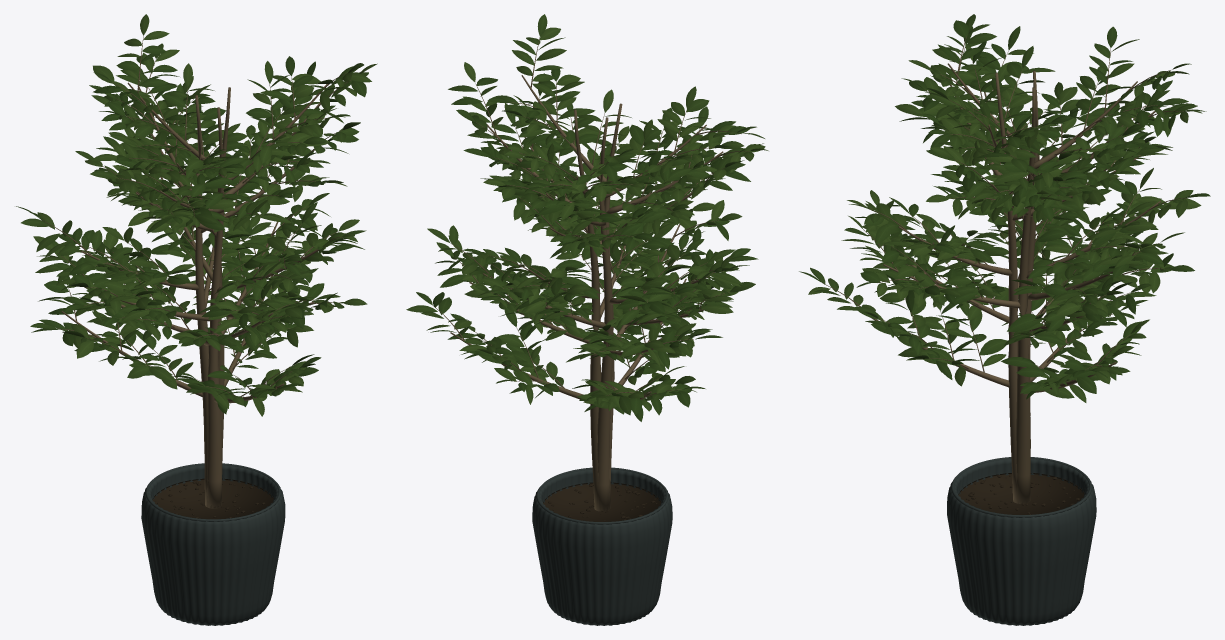
Rendered from indoor-tree.glb.
The picture shows the model from 3 angles, left to right: view 1: azimuth 30°, elevation 25°; view 2: azimuth 150°, elevation 25°; view 3: azimuth 270°, elevation 25°; orthographic projection. The views are drawn at different scales.
Visible parts, largest first — view 1: Irregular evergreen leaf canopy, Fluted dark ceramic planter, Branching woody stems Olive bark 2, Branching woody stems Olive bark 1, Branching woody stems Olive bark 0, Planter soil Dark mineral planting soil, Planter rim glaze roll; view 2: Irregular evergreen leaf canopy, Fluted dark ceramic planter, Branching woody stems Olive bark 0, Branching woody stems Olive bark 1, Planter soil Dark mineral planting soil, Branching woody stems Olive bark 2, Planter rim glaze roll; view 3: Irregular evergreen leaf canopy, Fluted dark ceramic planter, Branching woody stems Olive bark 0, Branching woody stems Olive bark 2, Planter soil Dark mineral planting soil, Branching woody stems Olive bark 1, Planter rim glaze roll.
Boxes of the visible parts, box(x1,y1,x2,y2) form: Irregular evergreen leaf canopy: box(16, 14, 377, 416); Fluted dark ceramic planter: box(141, 465, 285, 625); Branching woody stems Olive bark 2: box(57, 76, 340, 508); Branching woody stems Olive bark 1: box(61, 80, 327, 508); Branching woody stems Olive bark 0: box(41, 36, 350, 507); Planter soil Dark mineral planting soil: box(152, 478, 273, 519); Planter rim glaze roll: box(145, 463, 281, 521); Irregular evergreen leaf canopy: box(406, 14, 768, 421); Fluted dark ceramic planter: box(532, 469, 672, 625); Branching woody stems Olive bark 0: box(433, 37, 749, 511); Branching woody stems Olive bark 1: box(472, 81, 723, 511); Planter soil Dark mineral planting soil: box(543, 482, 661, 521); Branching woody stems Olive bark 2: box(476, 75, 728, 510); Planter rim glaze roll: box(536, 467, 668, 524); Irregular evergreen leaf canopy: box(799, 14, 1210, 402); Fluted dark ceramic planter: box(947, 458, 1096, 625); Branching woody stems Olive bark 0: box(822, 35, 1187, 503); Branching woody stems Olive bark 2: box(871, 48, 1159, 503); Planter soil Dark mineral planting soil: box(958, 473, 1084, 514); Branching woody stems Olive bark 1: box(891, 61, 1157, 503); Planter rim glaze roll: box(951, 457, 1092, 517).
Bounding box in the file's own units: 1.92 × 3 × 1.98.
9 materials, 4 textured.
